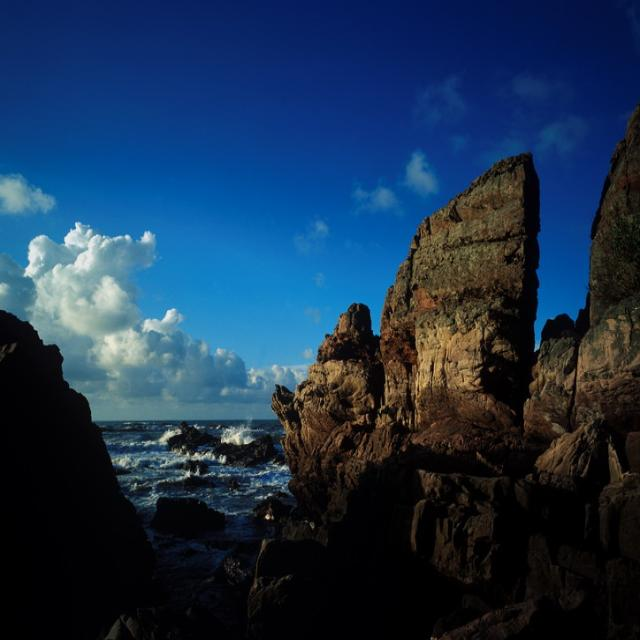reef: (138, 398, 268, 534)
